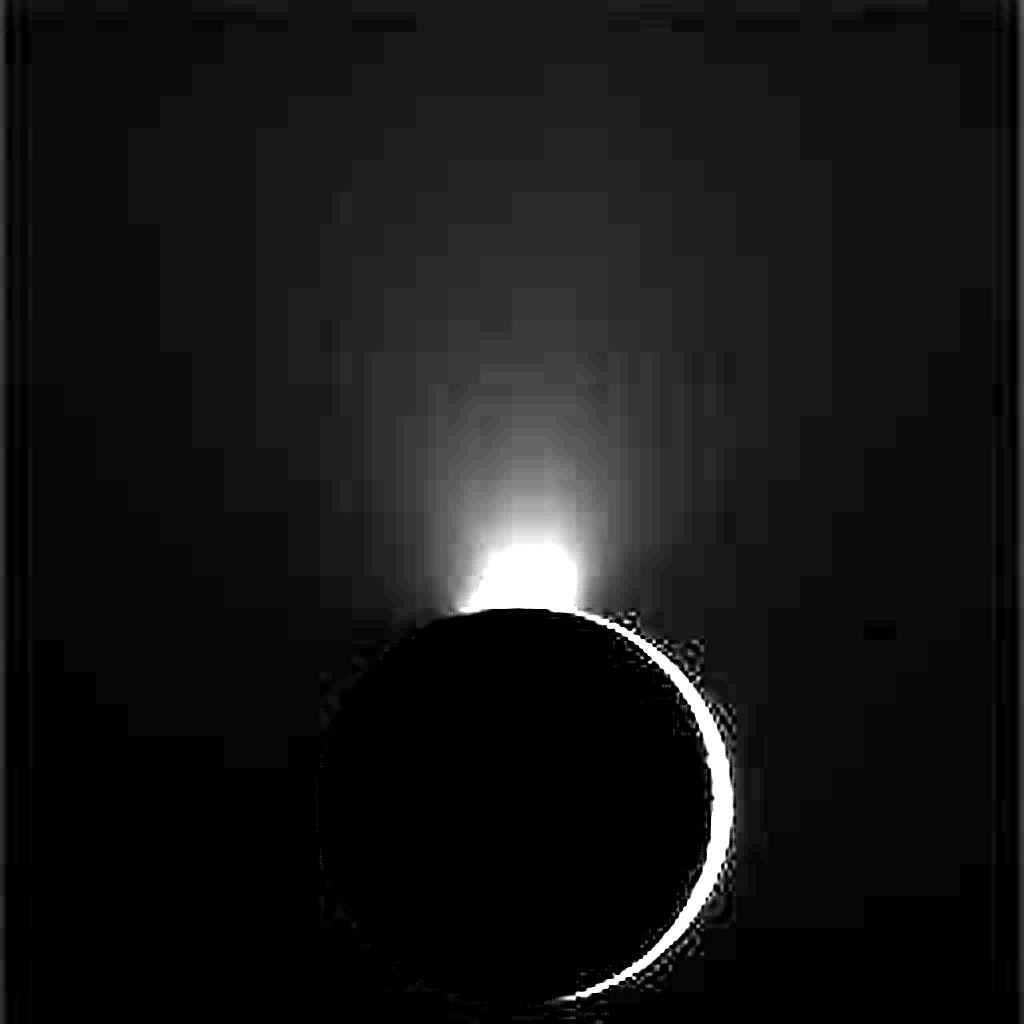plumes: (463, 542, 578, 610)
